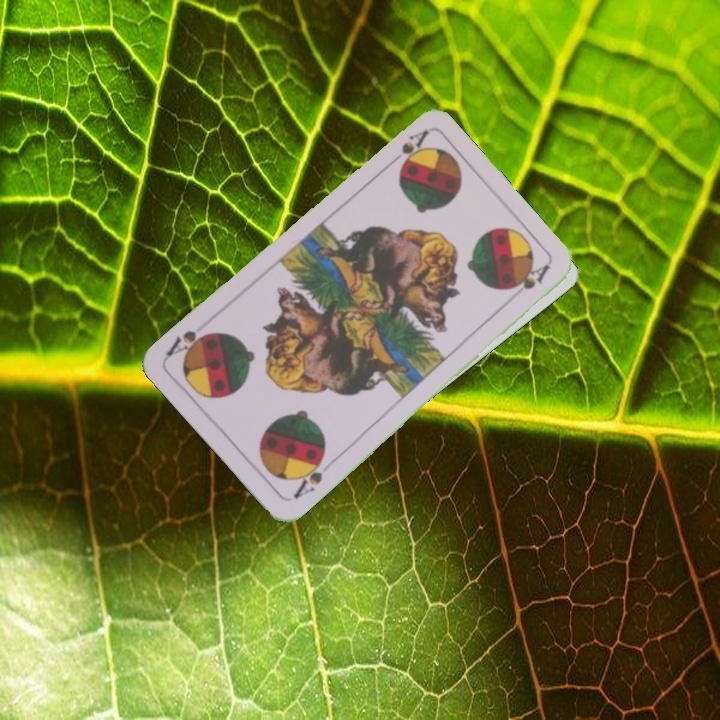SA: (382, 126, 431, 170), (289, 450, 328, 501)
